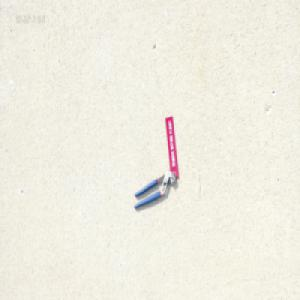Label: (165, 114, 179, 177)
Pliers: (133, 171, 176, 209)
